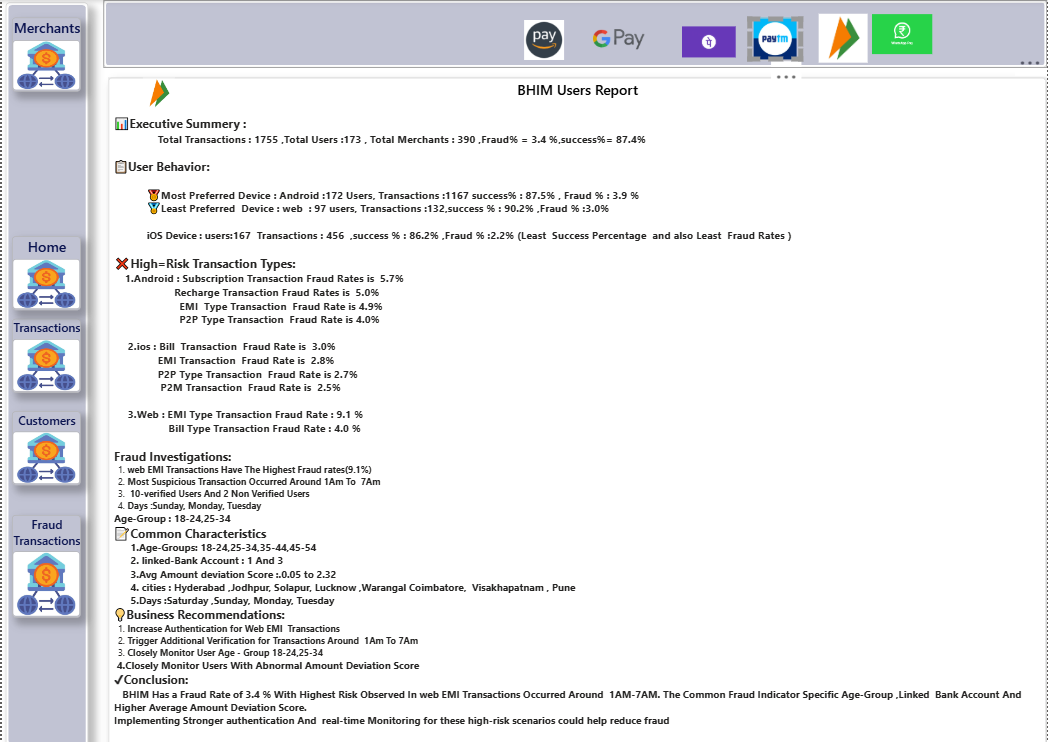

This screenshot's page, from the dashboard's own definition file:
{"tool":"powerbi","page":{"name":"Reports","canvas":[1400,1000],"ordinal":4},"visuals":[{"type":"shape","title":"Sidebar ","box":[135.7,0,1265.1,90.5],"z":0,"group":"g2"},{"type":"image","title":"Merchants","box":[13.4,23.5,92.2,98.9],"z":0,"group":"g3"},{"type":"textbox","title":"WhatsApp Pay Users  Reports","box":[142.4,102.2,1251.7,898.1],"z":0,"group":"g1"},{"type":"shape","title":"Sidebar ","box":[5,3.4,110.6,997],"z":1000},{"type":"image","title":"Amazon pay","box":[785.8,18.4,82.1,68.7],"z":1000,"group":"g2"},{"type":"image","box":[166,102.4,64.8,49.5],"z":1000,"group":"g1"},{"type":"image","title":"Transactions","box":[13.4,427.3,92.2,98.9],"z":1000,"group":"g3"},{"type":"image","title":"Amazon pay","box":[1166.2,11.7,80.4,68.7],"z":2000,"group":"g2"},{"type":"image","title":"Home","box":[13.4,316.7,92.2,98.9],"z":2000,"group":"g3"},{"type":"image","title":"Amazon pay","box":[1089.1,18.4,77.1,65.3],"z":3000,"group":"g2"},{"type":"image","title":"Customers","box":[13.4,551.3,92.2,98.9],"z":3000,"group":"g3"},{"type":"image","title":"Amazon pay","box":[1000.3,23.5,72.1,57],"z":4000,"group":"g2"},{"type":"image","title":"Fraud Transactions","box":[13.4,690.4,92.2,137.4],"z":4000,"group":"g3"},{"type":"image","title":"Amazon pay","box":[911.5,21.8,72.1,68.7],"z":5000,"group":"g2"},{"type":"image","title":"Amazon pay","box":[688.7,26.8,75.4,53.6],"z":6000,"group":"g2"},{"type":"group","id":"g1","title":"WhatsAppPay","box":[142.4,102.2,1251.7,898.1],"z":6000},{"type":"group","id":"g2","title":"Group 1","box":[135.7,0,1265.1,90.5],"z":7000},{"type":"group","id":"g3","title":"Group 2","box":[13.4,23.5,92.2,804.3],"z":8000}]}

Visuals, with their boxes on the page's 1400x1000 design canvas (x1, y1, x2, y2). These are canvas units, not pixel positions in the 1048x742 screenshot, which may show the page scaled, cropped or inside an application window:
"Sidebar " shape: Rect(136, 0, 1401, 90)
"Merchants" image: Rect(13, 24, 106, 122)
"WhatsApp Pay Users  Reports" textbox: Rect(142, 102, 1394, 1000)
"Sidebar " shape: Rect(5, 3, 116, 1000)
"Amazon pay" image: Rect(786, 18, 868, 87)
image: Rect(166, 102, 231, 152)
"Transactions" image: Rect(13, 427, 106, 526)
"Amazon pay" image: Rect(1166, 12, 1247, 80)
"Home" image: Rect(13, 317, 106, 416)
"Amazon pay" image: Rect(1089, 18, 1166, 84)
"Customers" image: Rect(13, 551, 106, 650)
"Amazon pay" image: Rect(1000, 24, 1072, 80)
"Fraud Transactions" image: Rect(13, 690, 106, 828)
"Amazon pay" image: Rect(912, 22, 984, 90)
"Amazon pay" image: Rect(689, 27, 764, 80)
"WhatsAppPay" group: Rect(142, 102, 1394, 1000)
"Group 1" group: Rect(136, 0, 1401, 90)
"Group 2" group: Rect(13, 24, 106, 828)
